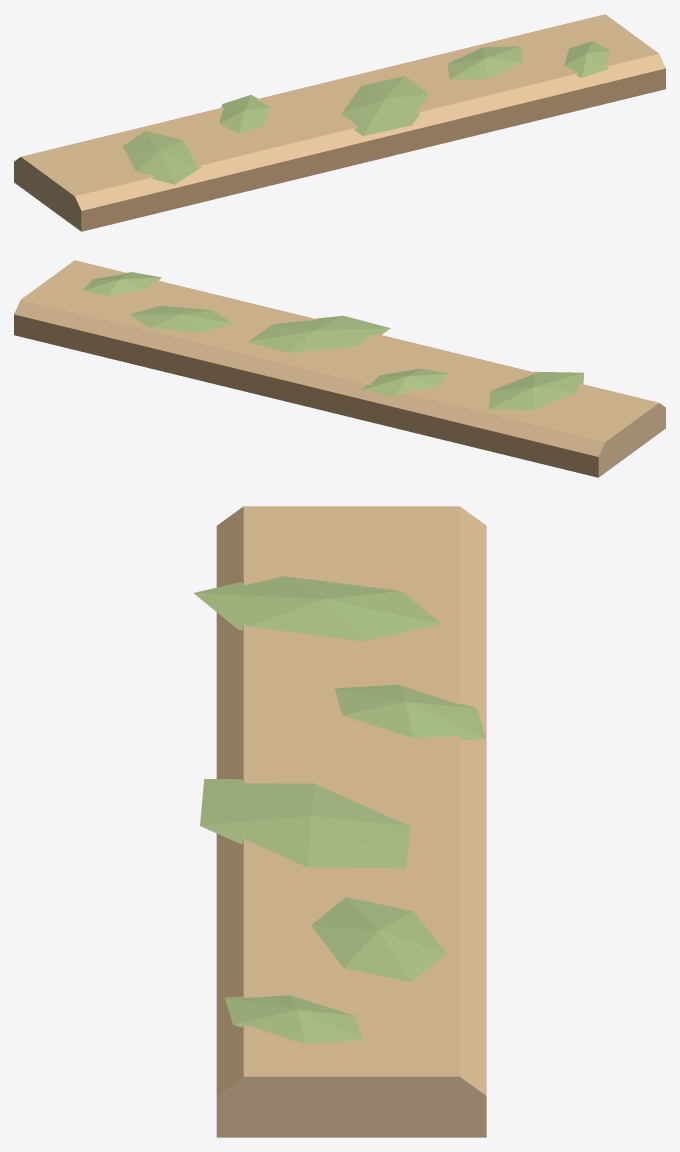
Rendered from mossy_plank.glb.
The picture shows the model from 3 angles, top to bottom: view 1: azimuth 30°, elevation 25°; view 2: azimuth 150°, elevation 25°; view 3: azimuth 270°, elevation 25°; orthographic projection. The views are drawn at different scales.
Parts seen in each view (by area): view 1: MossyPlank; view 2: MossyPlank; view 3: MossyPlank.
Boxes of the visible parts, x1,y1,x2,y2 form: MossyPlank: (14, 14, 665, 231); MossyPlank: (14, 260, 665, 477); MossyPlank: (193, 506, 486, 1137).
Bounding box in the file's own units: 5 × 0.29 × 1.09.
